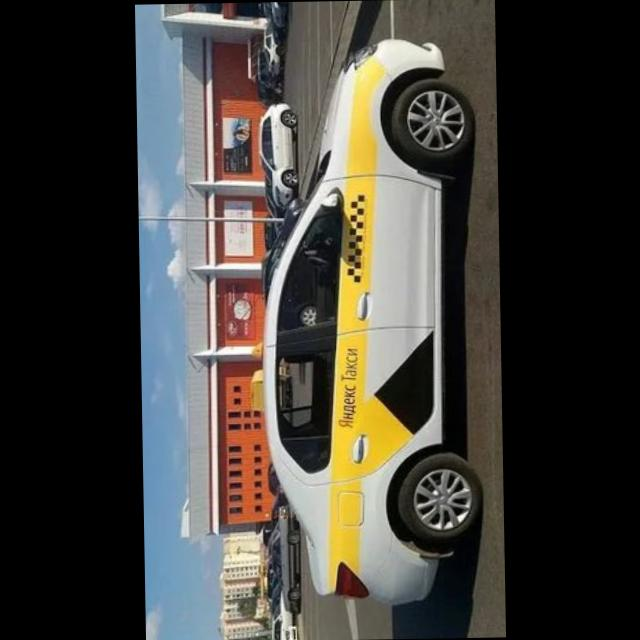taxi: (245, 38, 486, 609)
